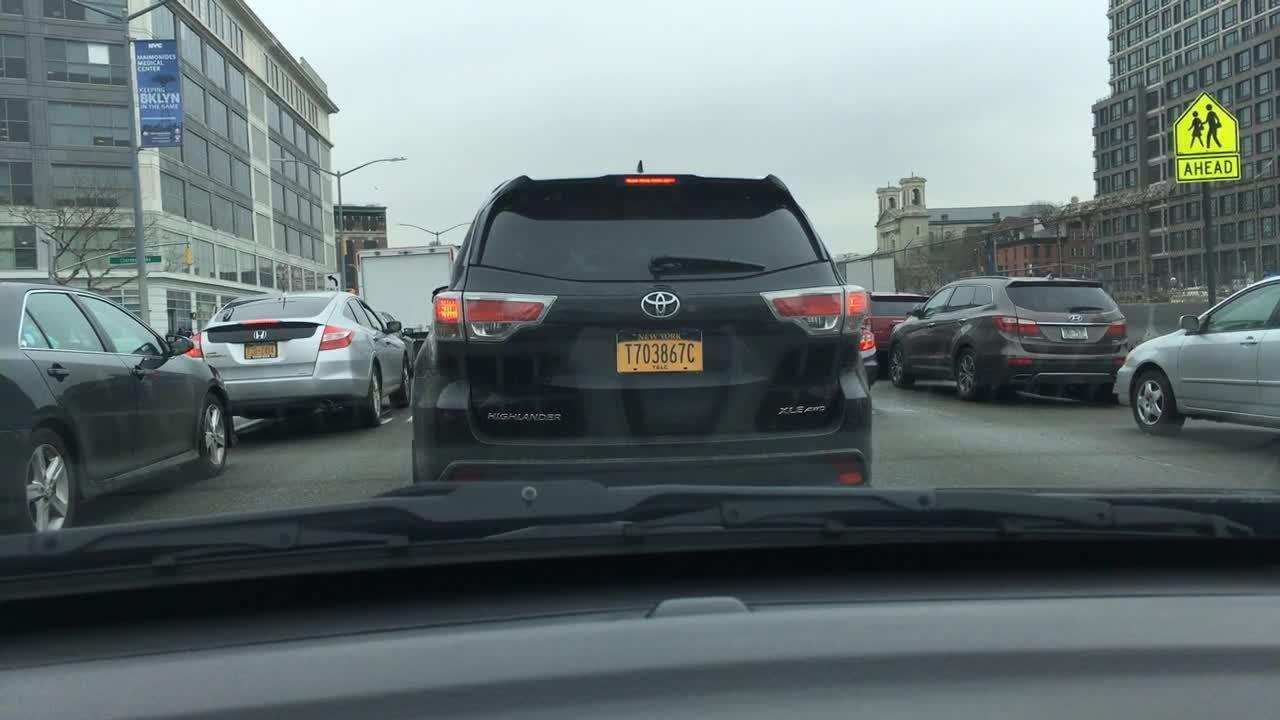Honda: (245, 326, 274, 343)
Hyundai: (1065, 311, 1083, 326)
Toyota: (630, 288, 696, 324)
